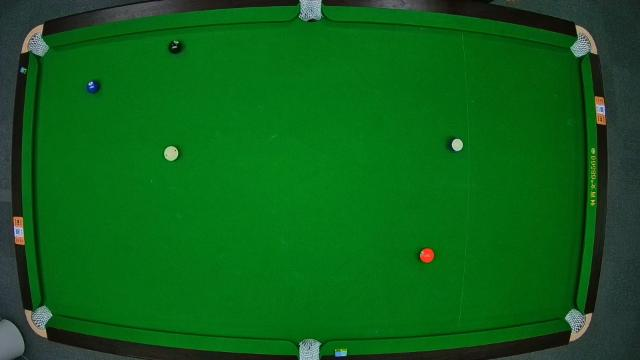bag1: (27, 33, 46, 55)
bag2: (299, 1, 321, 20)
bag3: (570, 34, 592, 56)
bag4: (34, 306, 50, 328)
bag5: (298, 340, 322, 360)
bag6: (565, 310, 587, 332)
ball0: (164, 146, 178, 162)
ball10: (450, 137, 464, 153)
ball2: (86, 78, 102, 96)
ball5: (418, 247, 434, 263)
ball8: (166, 38, 184, 54)
